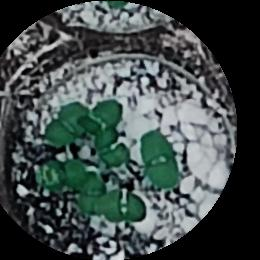Basil: (143, 135, 186, 187), (43, 103, 88, 147), (81, 100, 127, 135), (78, 174, 111, 215), (105, 191, 147, 222), (99, 136, 132, 167), (39, 163, 85, 185)
